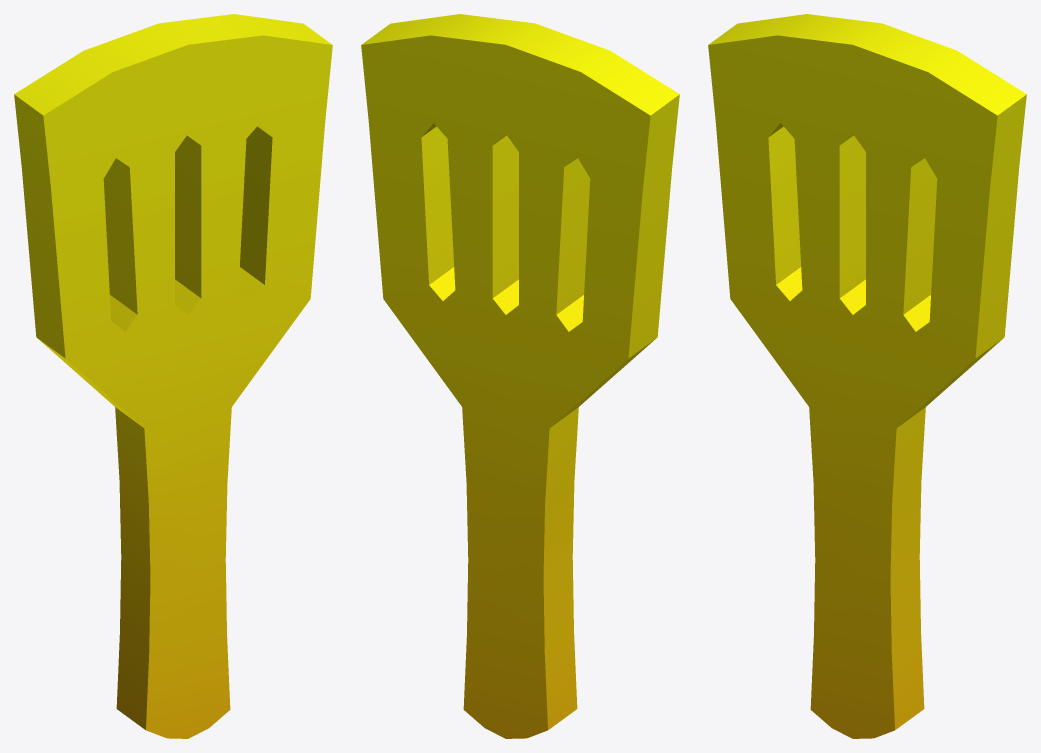
The model's file is Arm_Chef.fbx.
3 views of the same model, side by side, from view 1: azimuth 30°, elevation 25°; view 2: azimuth 150°, elevation 25°; view 3: azimuth 330°, elevation 25° (orthographic).
Visible parts, largest first — view 1: Arm_Chef; view 2: Arm_Chef; view 3: Arm_Chef.
Part boxes in pixels (x1,y1,x2,y2): Arm_Chef: (14, 14, 332, 738); Arm_Chef: (361, 14, 679, 738); Arm_Chef: (708, 14, 1026, 738).
Size of the model in its own units: 61.15 by 140 by 10.7.
